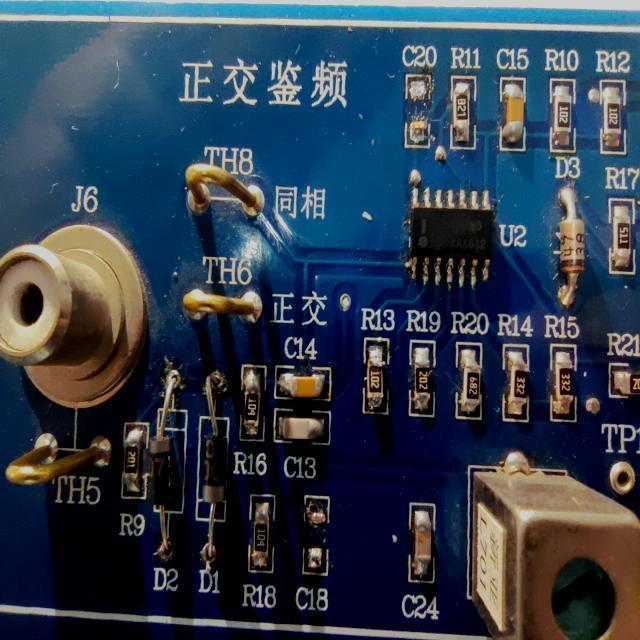Missing component: (288, 490, 339, 615), (397, 40, 439, 161)
